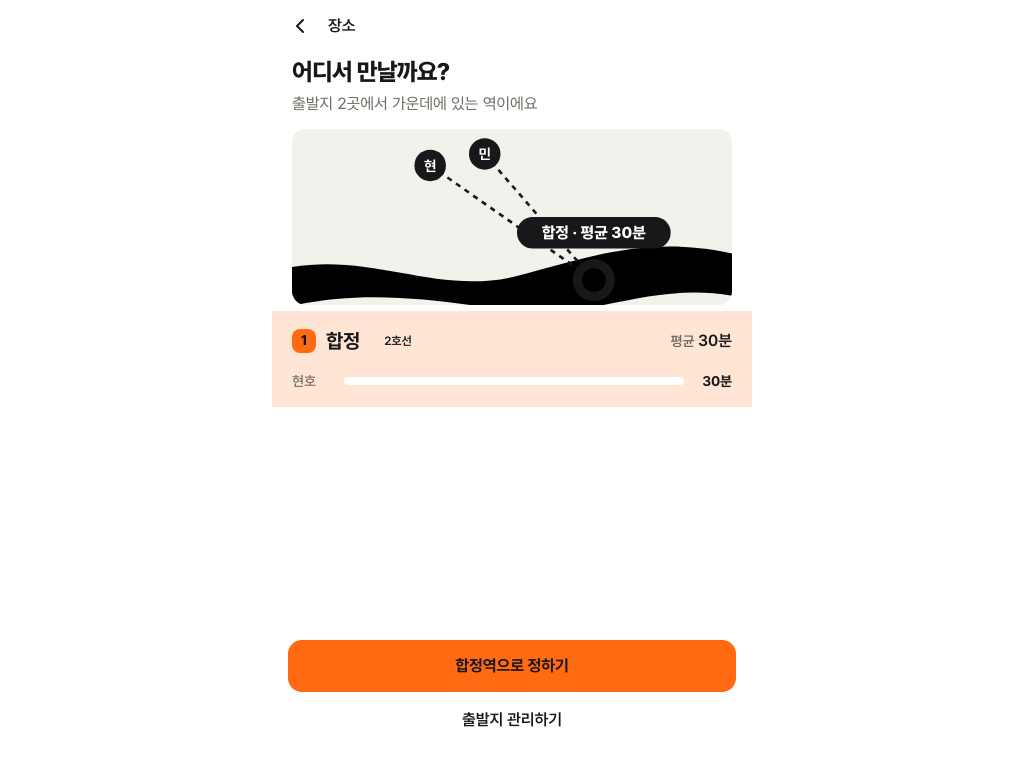
Test: 역 확정 시트는 다른 확정 시트와 같은 말투다(확정하기, 마침표 없는 주의 문구)
What coordinates should you click on to do the following:
click the button "합정역으로 정하기"
I would click on:
 (512, 666)
Its box is [288,640,736,692].
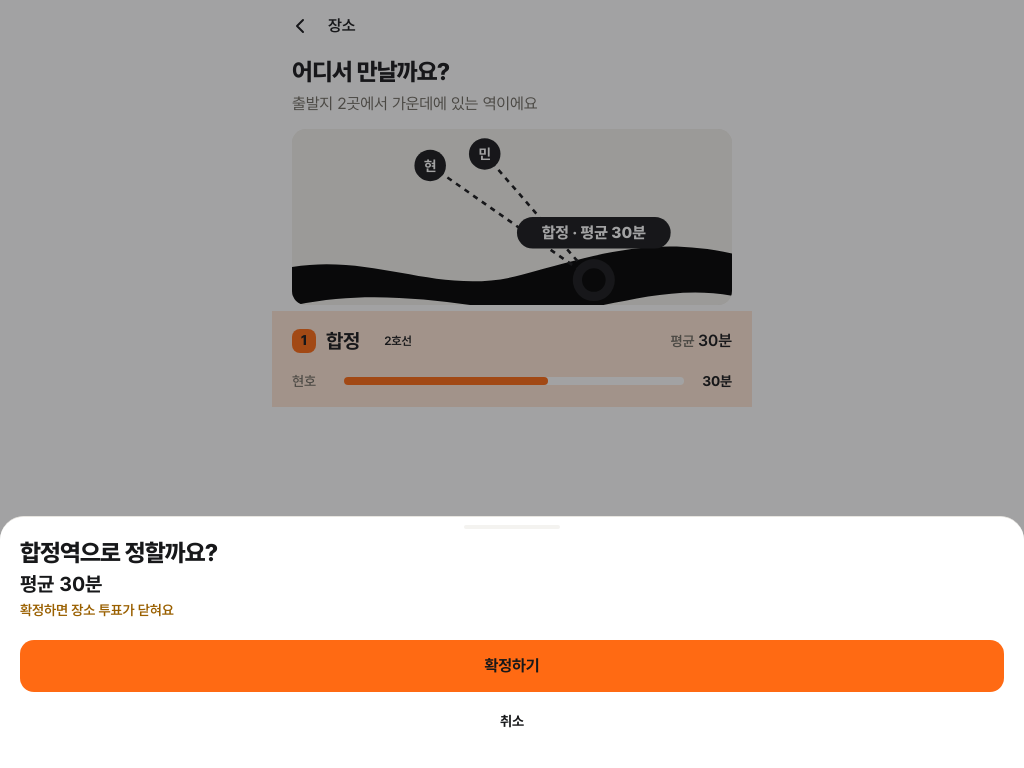
Result: the text "확정하면 장소 투표가 닫혀요" is shown at [20,600,174,619]
Result: the button "확정하기" is shown at [20,640,1004,692]
